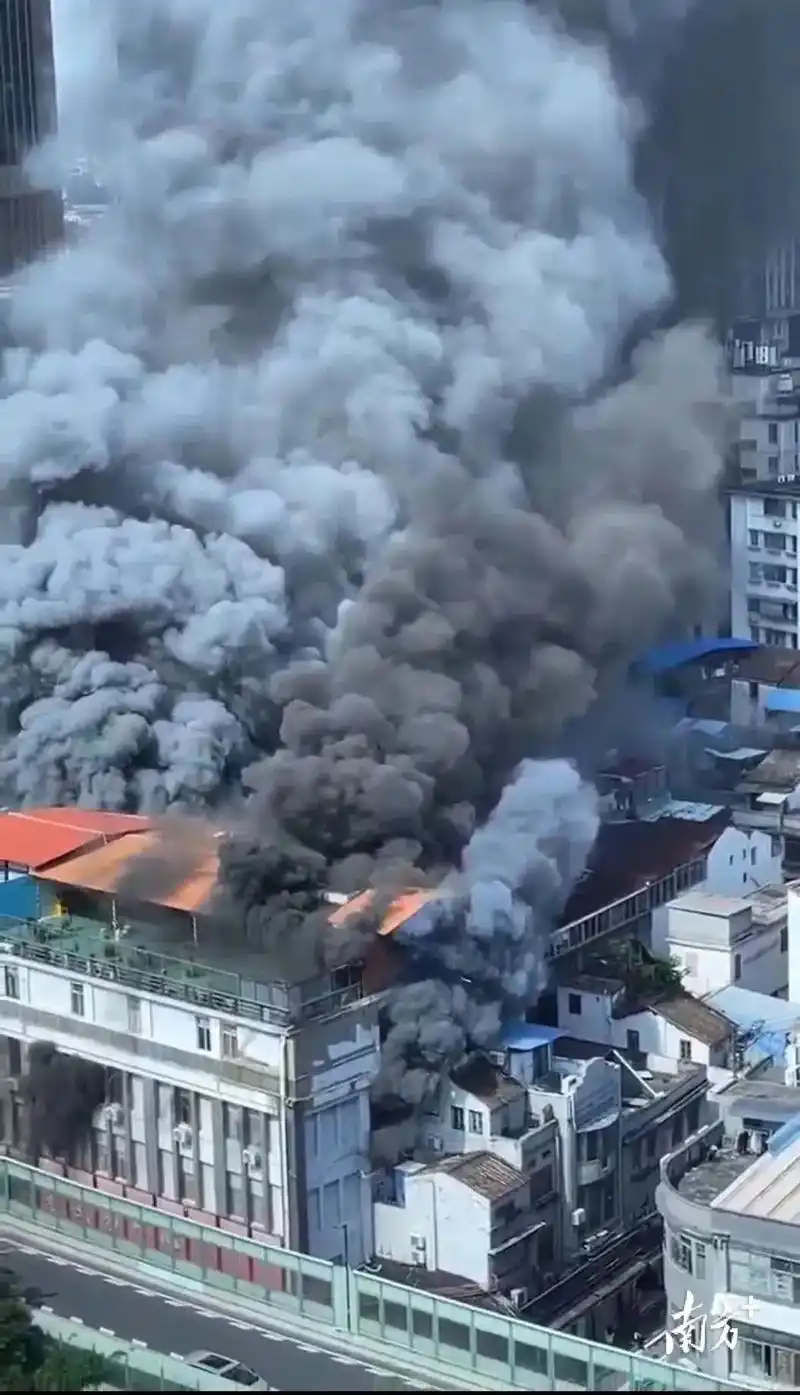fire: (6, 2, 746, 1130)
